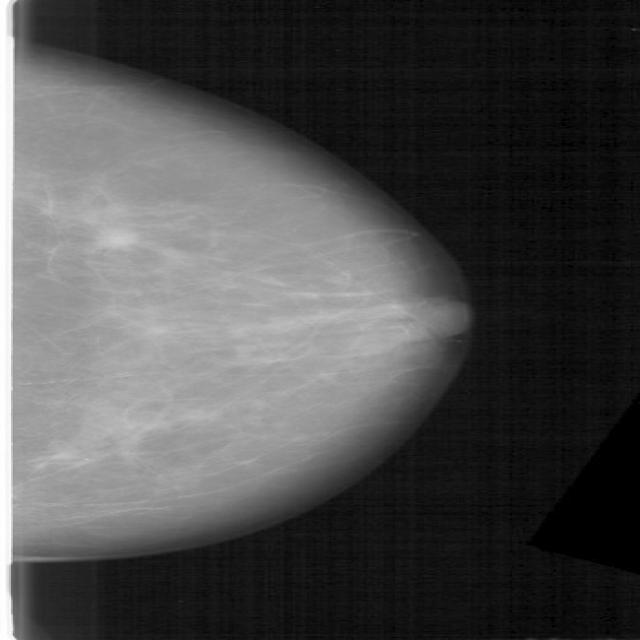tumour: (94, 226, 136, 247)
